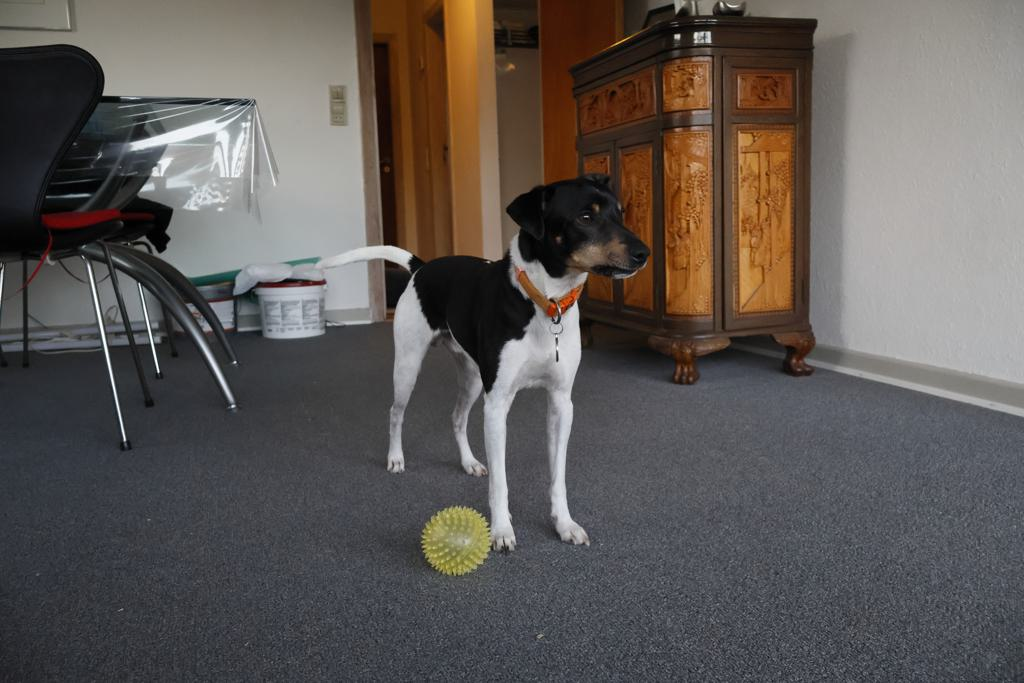Dog: (308, 156, 661, 566)
